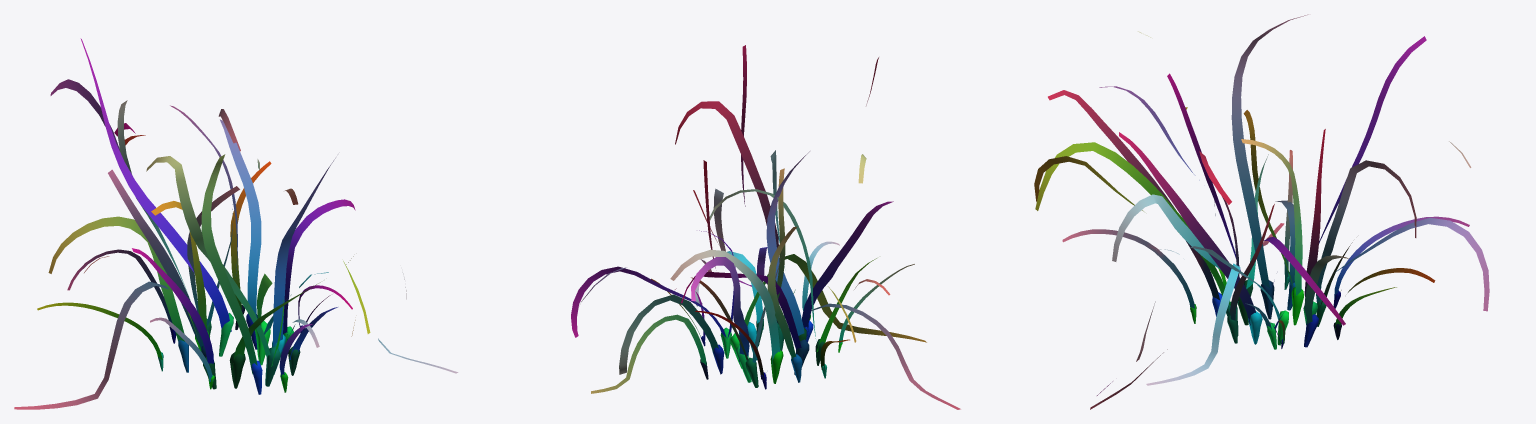
The model's file is Ribbon_Grass_tbdpec3r_High_tbdpec3r_VarB_LOD0.glb.
3 renders of one model, left to right at view 1: azimuth 30°, elevation 25°; view 2: azimuth 150°, elevation 25°; view 3: azimuth 270°, elevation 25°, orthographic. The views are drawn at different scales.
Parts seen in each view (by area): view 1: _dffe_VarB_LOD0; view 2: _dffe_VarB_LOD0; view 3: _dffe_VarB_LOD0.
Boxes of the visible parts, box(x1,y1,x2,y2) form: _dffe_VarB_LOD0: box(14, 38, 458, 409); _dffe_VarB_LOD0: box(571, 45, 960, 409); _dffe_VarB_LOD0: box(1034, 14, 1489, 409).
Bounding box in the file's own units: 0.5306 × 0.4495 × 0.6303.
